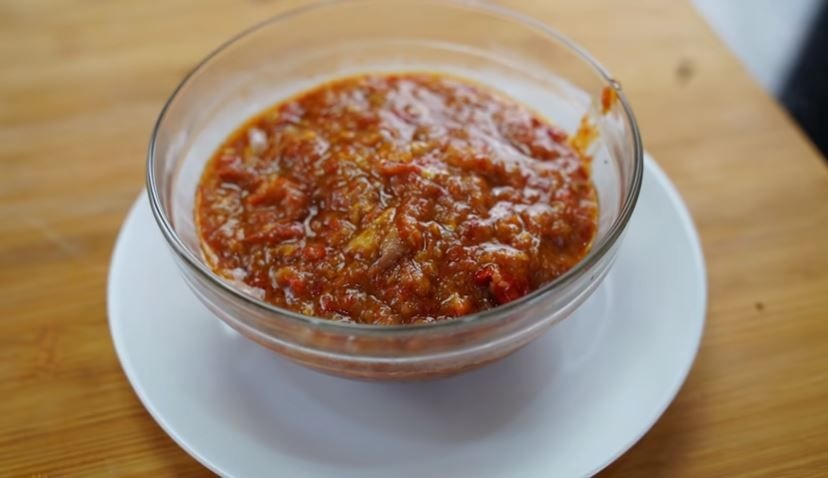sambal: (190, 72, 599, 326)
